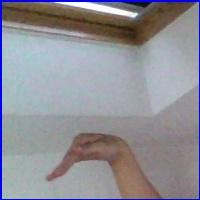del: (41, 129, 134, 184)
